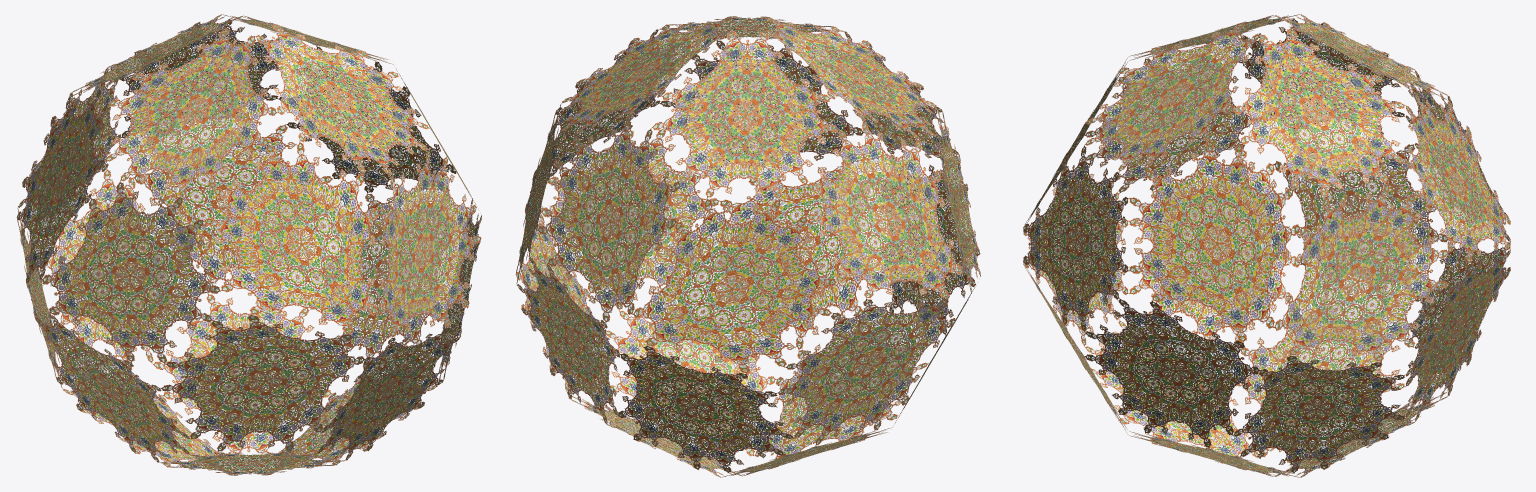
Rendered from PentagonalIcositetrahedron7.obj.
The picture shows the model from 3 angles, left to right: view 1: azimuth 30°, elevation 25°; view 2: azimuth 150°, elevation 25°; view 3: azimuth 270°, elevation 25°; orthographic projection.
Bounding box in the file's own units: 2.72 × 2.72 × 2.72.
Materials: 1 (1 with a texture image).
